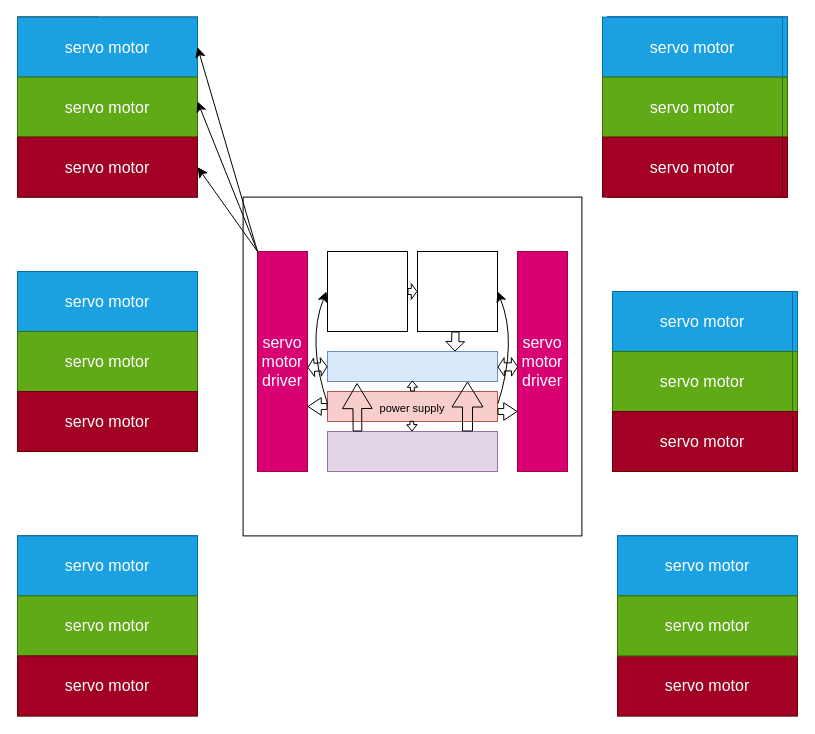
Some shapes in this 815 by 734 pixel diagram are drawn without their labels. Here are the shapes that lost their labels. From the top down, the centre of each, then its label:
At (367,291): "ca mera module".
At (457,291): "rf module".
At (412,366): "Arduino Mega".
At (412,451): "sensors (proximity, gyroscope, gas)".
